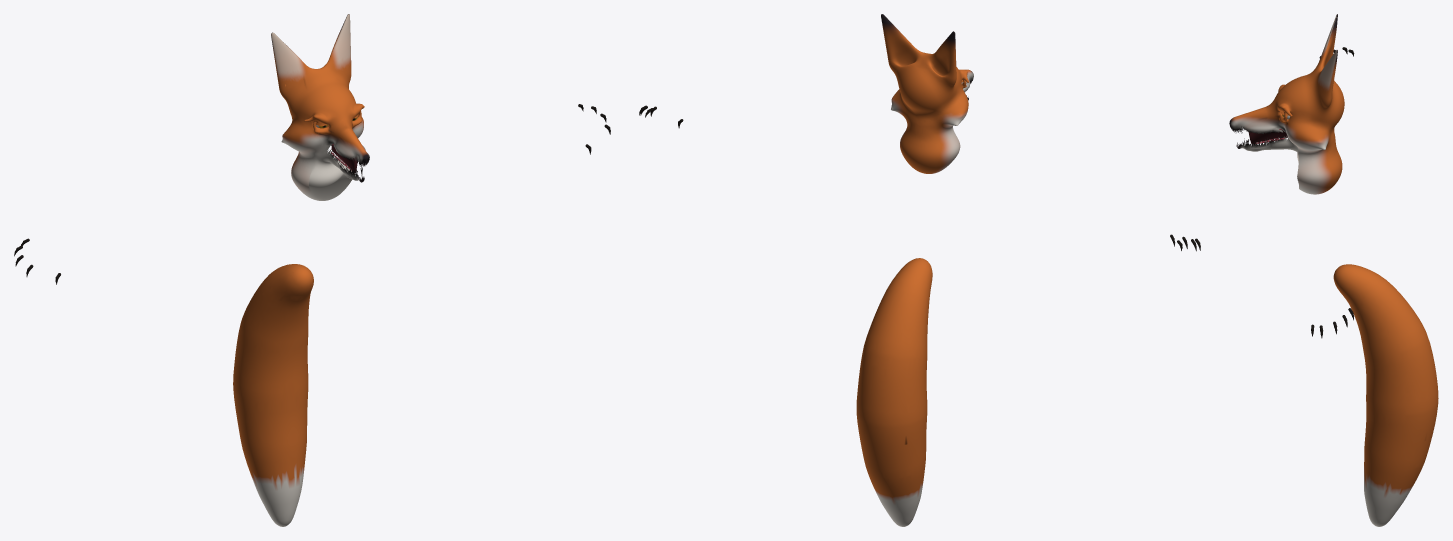
Rendered from male_fox.glb.
The picture shows the model from 3 angles, left to right: view 1: azimuth 30°, elevation 25°; view 2: azimuth 150°, elevation 25°; view 3: azimuth 270°, elevation 25°; orthographic projection. The views are drawn at different scales.
Visible parts, largest first — view 1: AnimalTail, AnimalHead; view 2: AnimalTail, AnimalHead; view 3: AnimalTail, AnimalHead.
Boxes of the visible parts, <box> form: AnimalTail: <box>233,264,313,526</box>; AnimalHead: <box>271,14,369,200</box>; AnimalTail: <box>856,258,932,526</box>; AnimalHead: <box>881,14,973,173</box>; AnimalTail: <box>1333,264,1438,526</box>; AnimalHead: <box>1229,14,1344,194</box>.
Bounding box in the file's own units: 1.94 × 1.62 × 0.6186.
